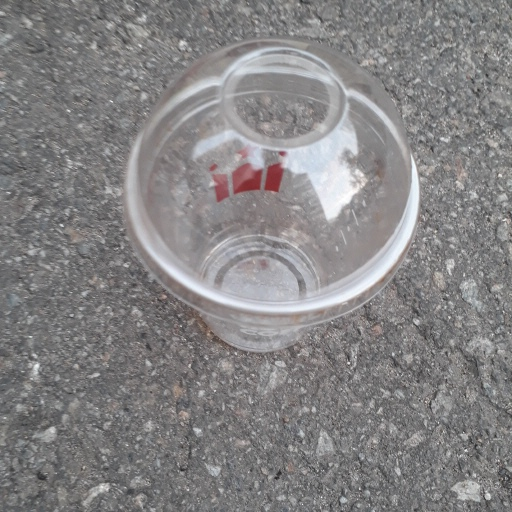Plastic_2: (119, 36, 425, 355)
